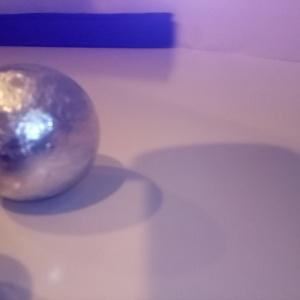alive_ball: (1, 64, 100, 203)
